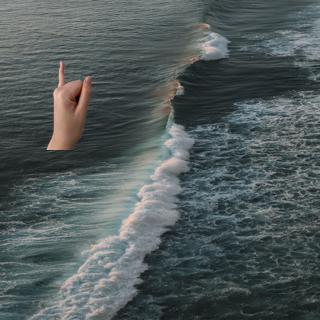Fine: (45, 58, 97, 150)
